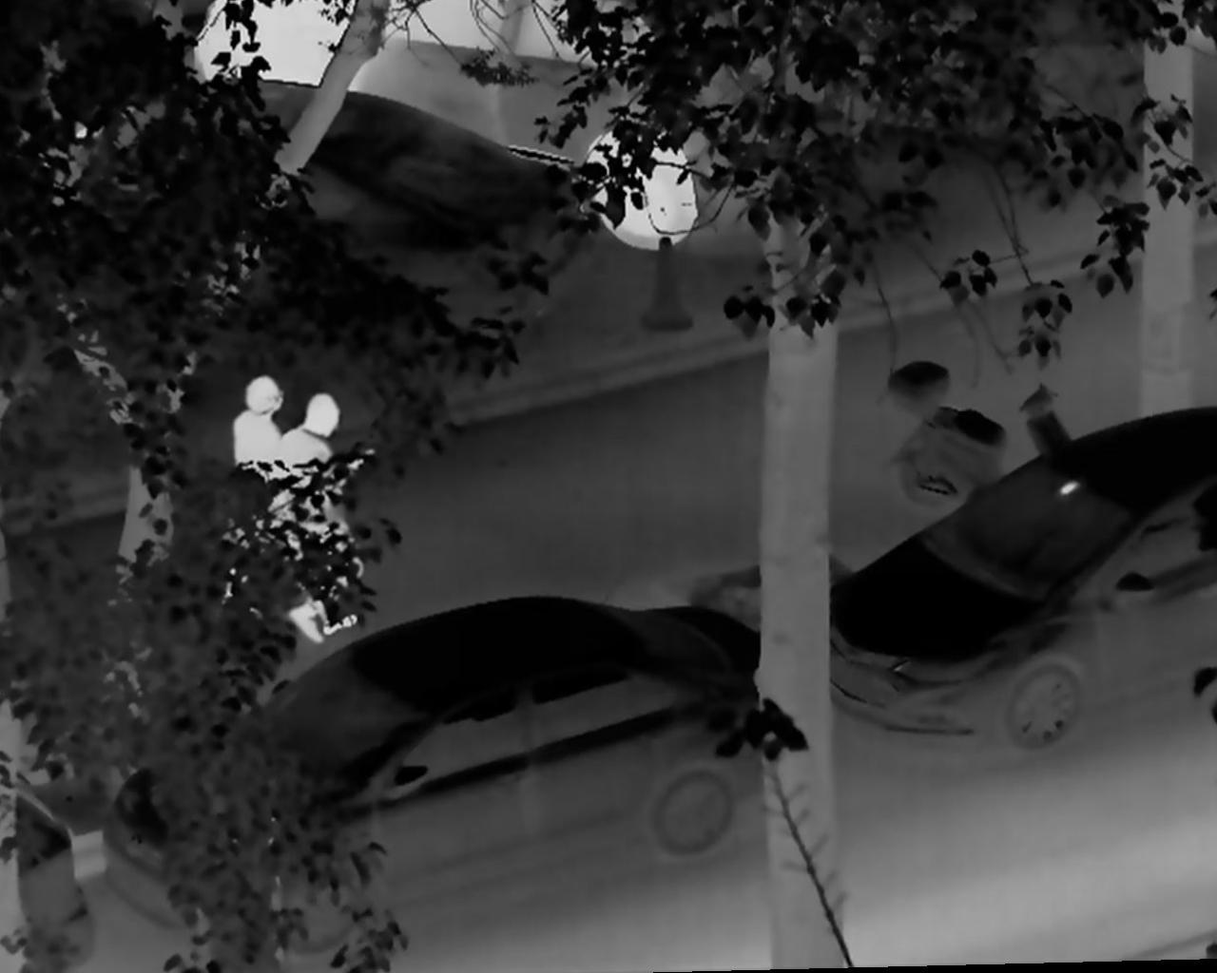person: (266, 384, 379, 647), (207, 370, 316, 631)
